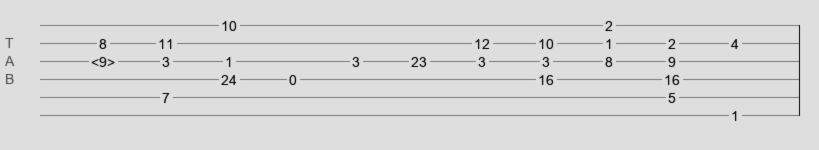0: (289, 72, 297, 82)
1: (225, 54, 233, 64), (605, 36, 613, 46), (731, 108, 739, 118)
10: (221, 18, 237, 28), (538, 36, 554, 46)
11: (158, 36, 174, 46)
12: (474, 36, 490, 46)
16: (538, 72, 554, 82), (664, 72, 680, 82)
2: (605, 18, 613, 28), (668, 36, 676, 46)
23: (411, 54, 427, 64)
24: (221, 72, 237, 82)
3: (162, 54, 170, 64), (352, 54, 360, 64), (478, 54, 486, 64), (542, 54, 550, 64)
4: (731, 36, 739, 46)
5: (668, 90, 676, 100)
7: (162, 90, 170, 100)
8: (99, 36, 107, 46), (605, 54, 613, 64)
9: (668, 54, 676, 64)
harmonic: (91, 54, 115, 64)
